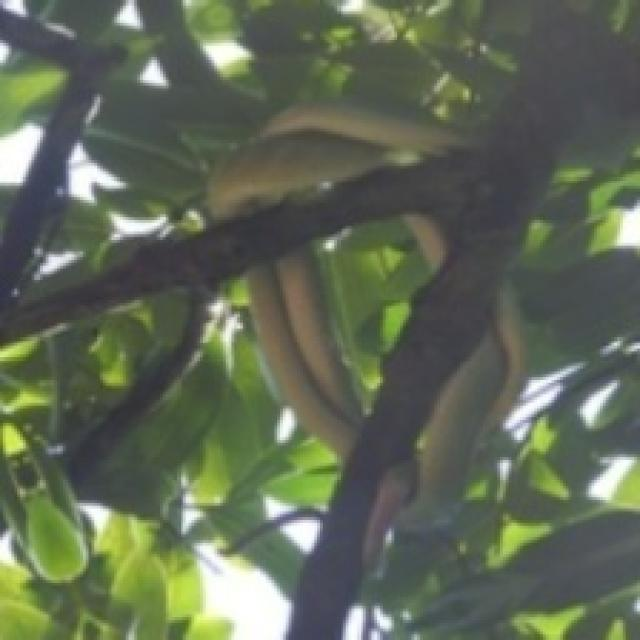red-tailed green ratsnake: (211, 106, 449, 217), (210, 110, 442, 218), (250, 248, 360, 458), (420, 291, 520, 501), (372, 461, 412, 556), (411, 215, 446, 269)
